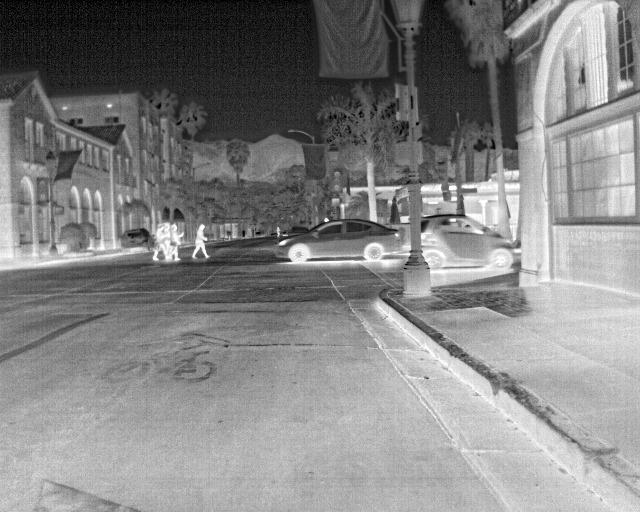bicycle: (273, 220, 402, 264), (420, 217, 517, 270)
empty: (189, 222, 211, 260), (150, 223, 167, 261), (170, 222, 186, 261)
